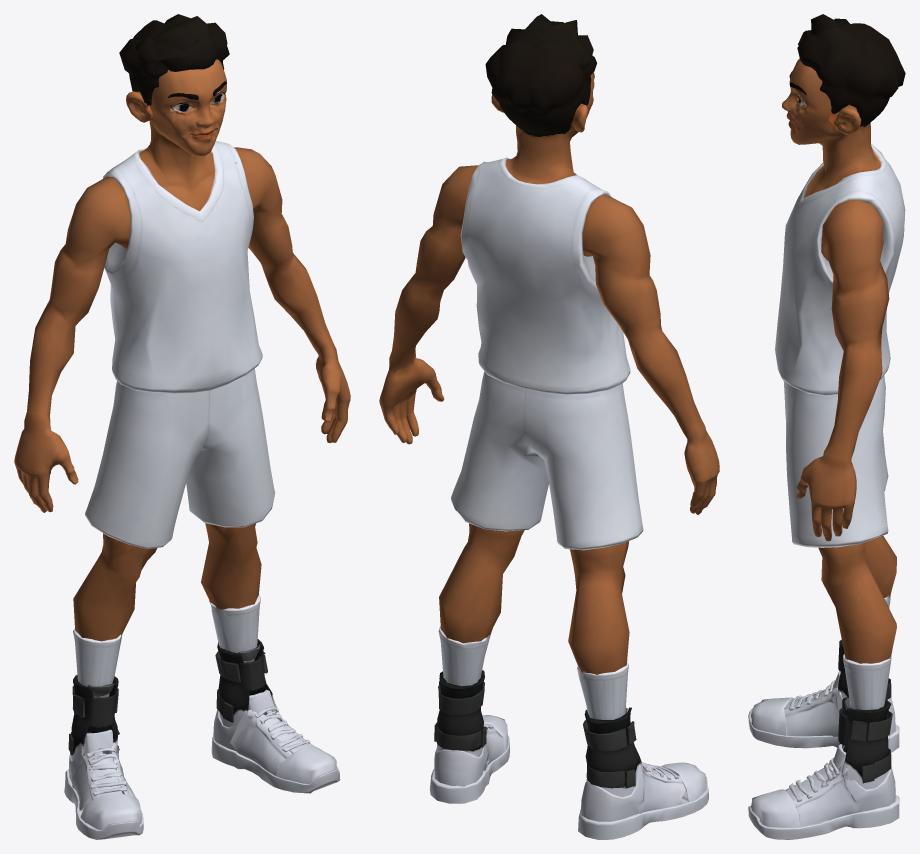
File: floorgeneral.glb
3 renders of one model, left to right at view 1: azimuth 30°, elevation 25°; view 2: azimuth 150°, elevation 25°; view 3: azimuth 270°, elevation 25°, orthographic. The views are drawn at different scales.
Visible parts, largest first — view 1: geometry_0; view 2: geometry_0; view 3: geometry_0.
Boxes of the visible parts, x1,y1,x2,y2 form: geometry_0: [14, 14, 350, 839]; geometry_0: [379, 14, 719, 839]; geometry_0: [748, 14, 905, 839].
Bounding box in the file's own units: 0.4214 × 0.9512 × 0.1787.
Materials: 1 (1 with a texture image).
